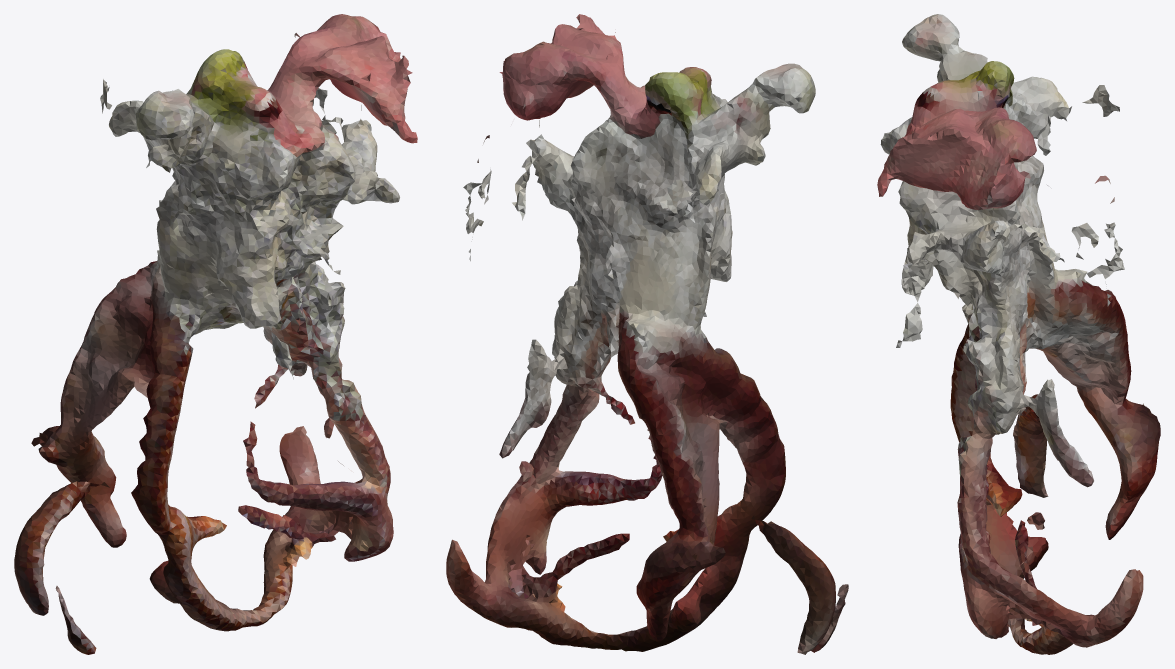
File: try.glb
The picture shows the model from 3 angles, left to right: view 1: azimuth 30°, elevation 25°; view 2: azimuth 150°, elevation 25°; view 3: azimuth 270°, elevation 25°; orthographic projection. The views are drawn at different scales.
Visible parts, largest first — view 1: world; view 2: world; view 3: world.
Part boxes in pixels (bbox=[...]): world: bbox=[14, 14, 417, 654]; world: bbox=[446, 14, 848, 654]; world: bbox=[877, 14, 1160, 654].
Bounding box in the file's own units: 0.7968 × 1.25 × 0.5711.
